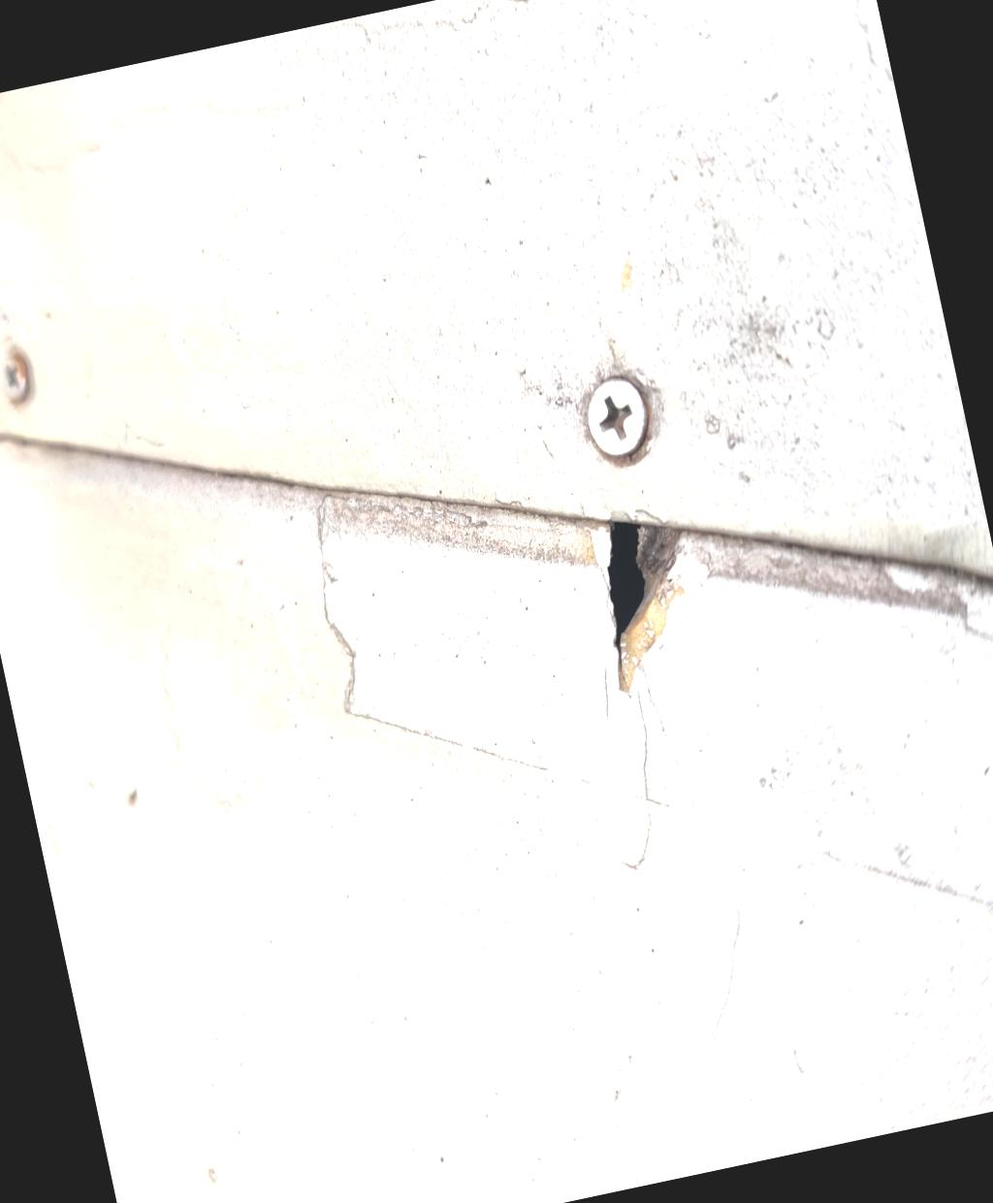crack: (495, 439, 802, 768)
